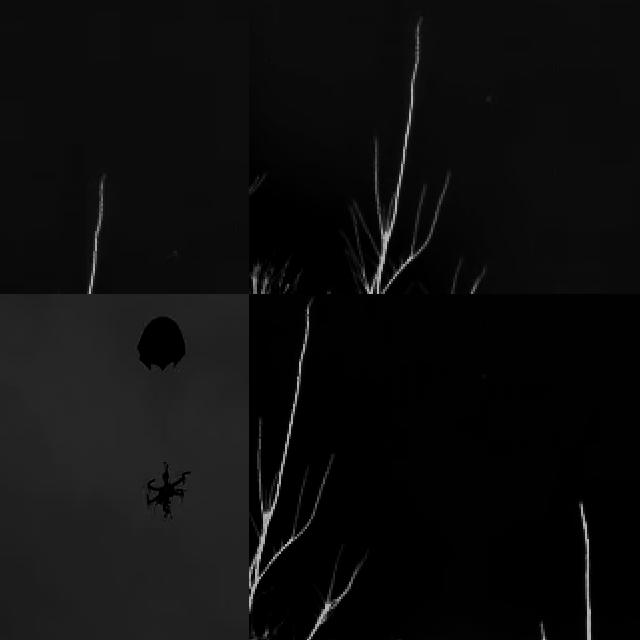0: (165, 243, 193, 271), (479, 88, 507, 115), (476, 364, 496, 392)
drone: (142, 461, 194, 521)
